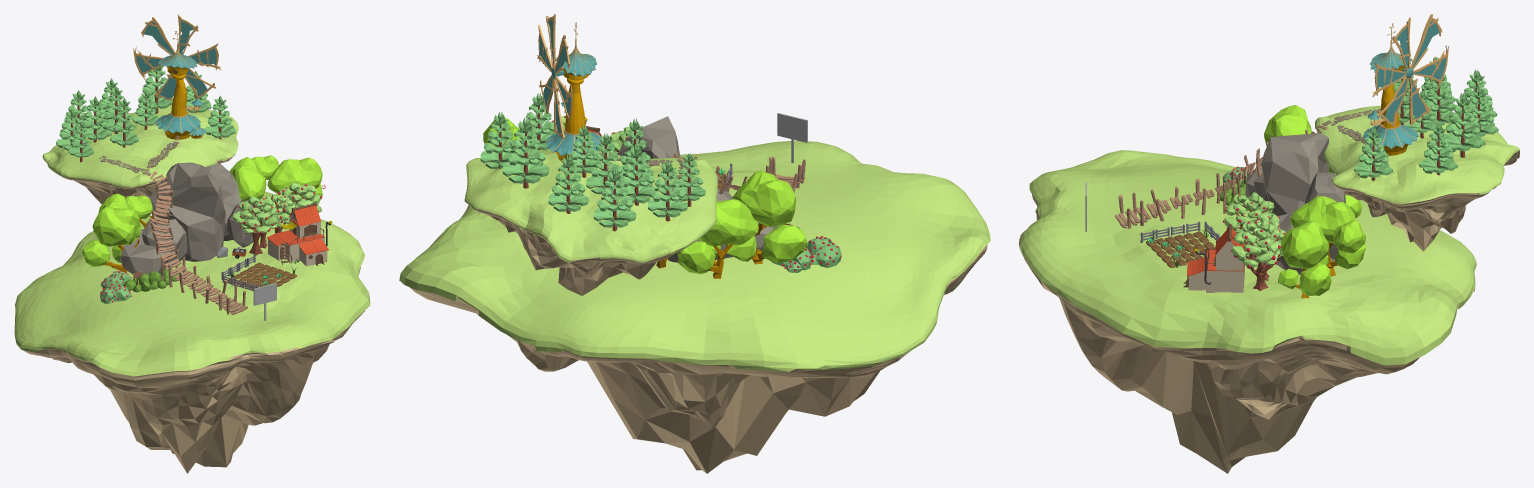
The model's file is metaland4.glb.
3 views of the same model, side by side, from view 1: azimuth 30°, elevation 25°; view 2: azimuth 150°, elevation 25°; view 3: azimuth 270°, elevation 25° (orthographic). The views are drawn at different scales.
Parts seen in each view (by area): view 1: road_A-dao1:___________立方体SG1, road_A-dao1:___________细分曲面_1SG1, rock, road_B-dao1:___________立方体SG1, tree04-dao1:_________Tree_6_LowSG3, bridge, tree04-dao1:_________Tree_6_HighSG3, dao360, dao279, dao377, road_B-dao1:___________细分曲面_1SG1, dao284 (+12 smaller); view 2: road_A-dao1:___________立方体SG1, road_A-dao1:___________细分曲面_1SG1, road_B-dao1:___________立方体SG1, tree04-dao1:_________Tree_6_LowSG3, road_B-dao1:___________细分曲面_1SG1, tree04-dao1:_________Tree_6_HighSG3, dao360, rock, dao397, dao337, tree01-dao1:____Bush1_WFSG3, dao374 (+6 smaller); view 3: road_A-dao1:___________立方体SG1, road_A-dao1:___________细分曲面_1SG1, road_B-dao1:___________立方体SG1, rock, tree04-dao1:_________Tree_6_LowSG3, road_B-dao1:___________细分曲面_1SG1, bridge, dao4-dao1:____________Tree_1_Low_WFSG1, dao279, dao284, dao536, dao377 (+8 smaller).
Part boxes in pixels (left/top/right/bottom): road_A-dao1:___________立方体SG1: left=14, top=191, right=370, bottom=376; road_A-dao1:___________细分曲面_1SG1: left=22, top=267, right=364, bottom=473; rock: left=120, top=162, right=262, bottom=274; road_B-dao1:___________立方体SG1: left=42, top=105, right=238, bottom=187; tree04-dao1:_________Tree_6_LowSG3: left=56, top=66, right=235, bottom=150; bridge: left=150, top=171, right=247, bottom=314; tree04-dao1:_________Tree_6_HighSG3: left=68, top=87, right=138, bottom=157; dao360: left=92, top=206, right=141, bottom=246; dao279: left=267, top=157, right=322, bottom=194; dao377: left=232, top=196, right=278, bottom=233; road_B-dao1:___________细分曲面_1SG1: left=53, top=153, right=235, bottom=213; dao284: left=229, top=157, right=266, bottom=201; road_A-dao1:___________立方体SG1: left=399, top=140, right=990, bottom=371; road_A-dao1:___________细分曲面_1SG1: left=409, top=245, right=987, bottom=473; road_B-dao1:___________立方体SG1: left=464, top=148, right=717, bottom=262; tree04-dao1:_________Tree_6_LowSG3: left=480, top=93, right=687, bottom=227; road_B-dao1:___________细分曲面_1SG1: left=468, top=185, right=717, bottom=295; tree04-dao1:_________Tree_6_HighSG3: left=586, top=118, right=705, bottom=200; dao360: left=733, top=170, right=796, bottom=227; rock: left=597, top=116, right=776, bottom=262; dao397: left=699, top=199, right=758, bottom=246; dao337: left=761, top=224, right=807, bottom=262; tree01-dao1:____Bush1_WFSG3: left=771, top=237, right=841, bottom=272; dao374: left=677, top=241, right=715, bottom=273; road_A-dao1:___________立方体SG1: left=1019, top=150, right=1476, bottom=365; road_A-dao1:___________细分曲面_1SG1: left=1019, top=195, right=1474, bottom=473; road_B-dao1:___________立方体SG1: left=1315, top=106, right=1519, bottom=204; rock: left=1245, top=133, right=1345, bottom=274; tree04-dao1:_________Tree_6_LowSG3: left=1354, top=56, right=1498, bottom=178; road_B-dao1:___________细分曲面_1SG1: left=1315, top=127, right=1519, bottom=251; bridge: left=1115, top=125, right=1327, bottom=228; dao4-dao1:____________Tree_1_Low_WFSG1: left=1231, top=216, right=1285, bottom=267; dao279: left=1281, top=221, right=1329, bottom=268; dao284: left=1290, top=195, right=1354, bottom=243; dao536: left=1146, top=231, right=1214, bottom=267; dao377: left=1224, top=192, right=1279, bottom=233.
Bounding box in the file's own units: 4231 × 4649 × 4440.
